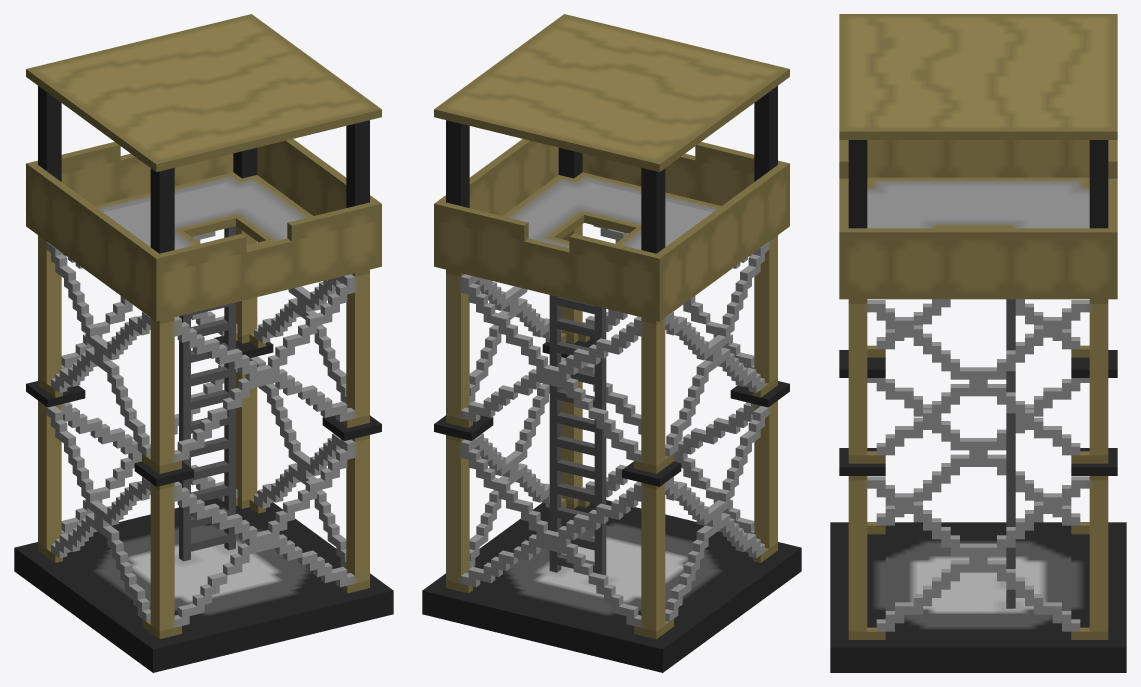
File: Tower_0.fbx
3 renders of one model, left to right at view 1: azimuth 30°, elevation 25°; view 2: azimuth 150°, elevation 25°; view 3: azimuth 270°, elevation 25°, orthographic. The views are drawn at different scales.
Visible parts, largest first — view 1: Matrix_2; view 2: Matrix_2; view 3: Matrix_2.
Part boxes in pixels (bbox=[...]): Matrix_2: bbox=[14, 14, 393, 672]; Matrix_2: bbox=[422, 14, 801, 672]; Matrix_2: bbox=[830, 14, 1126, 672].
Bounding box in the file's own units: 32 × 64 × 32.
